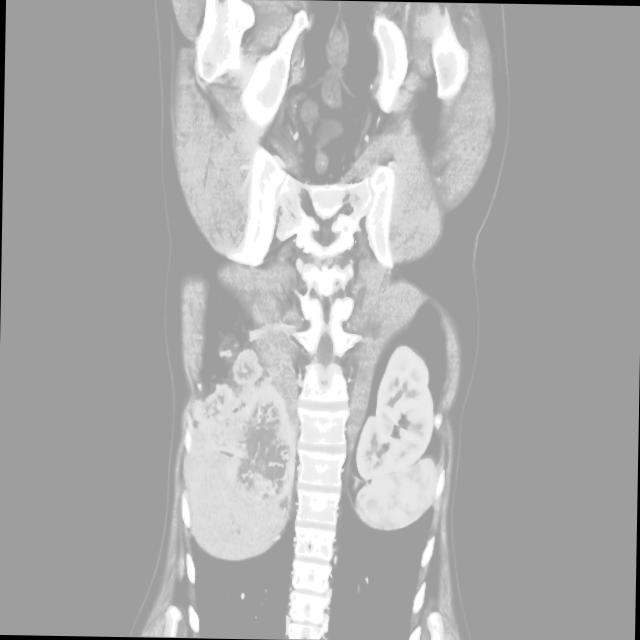TUMOR: (135, 291, 498, 537)
